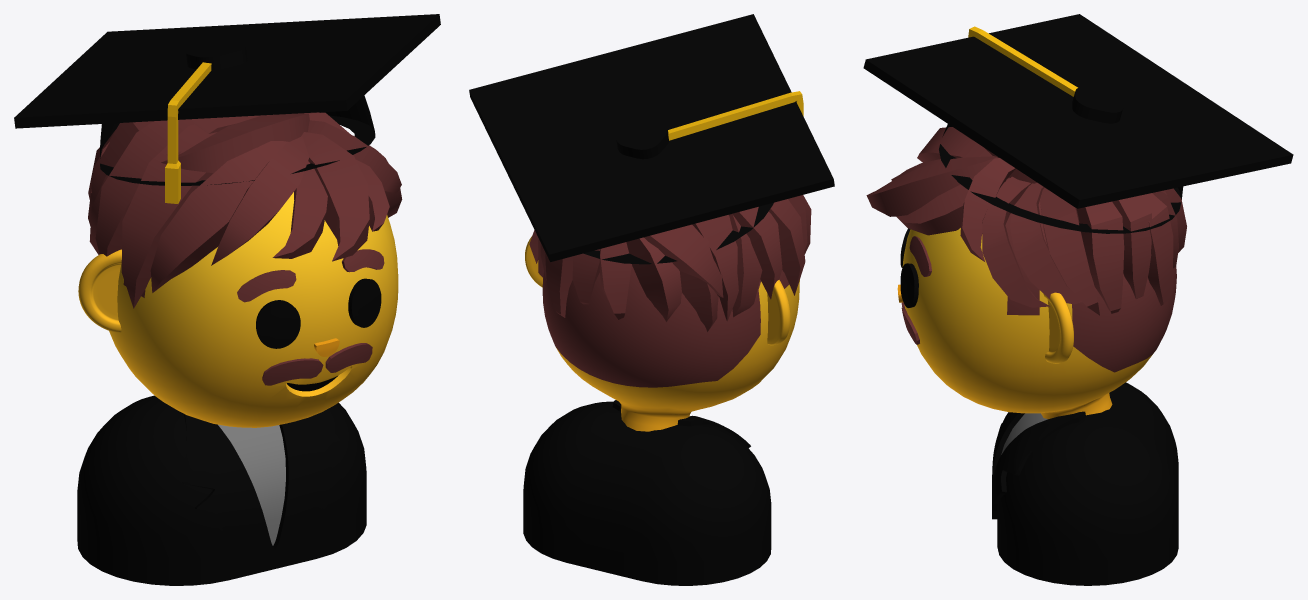
Rendered from man_student.glb.
3 views of the same model, side by side, from view 1: azimuth 30°, elevation 25°; view 2: azimuth 150°, elevation 25°; view 3: azimuth 270°, elevation 25° (orthographic). The views are drawn at different scales.
Parts seen in each view (by area): view 1: Cube.979, Roundcube.078, Circle.558, Sphere.038, Circle.557, Circle.554, Cylinder.071, Circle.559, Plane.029, Circle.556; view 2: Circle.558, Sphere.038, Roundcube.078, Cube.979, Cylinder.071, Plane.029, Circle.557; view 3: Circle.558, Cube.979, Sphere.038, Roundcube.078, Circle.557, Cylinder.071, Plane.029, Circle.554.
Boxes of the visible parts, bbox=[...] form: Cube.979: bbox=[88, 112, 402, 308]; Roundcube.078: bbox=[109, 192, 398, 427]; Circle.558: bbox=[14, 14, 440, 185]; Sphere.038: bbox=[77, 395, 366, 585]; Circle.557: bbox=[182, 414, 343, 557]; Circle.554: bbox=[256, 278, 381, 348]; Cylinder.071: bbox=[78, 249, 121, 332]; Circle.559: bbox=[262, 343, 372, 385]; Plane.029: bbox=[165, 62, 211, 203]; Circle.556: bbox=[237, 249, 384, 302]; Circle.558: bbox=[469, 14, 834, 264]; Sphere.038: bbox=[523, 401, 771, 585]; Roundcube.078: bbox=[542, 265, 799, 431]; Cube.979: bbox=[529, 195, 811, 331]; Cylinder.071: bbox=[525, 236, 790, 345]; Plane.029: bbox=[668, 91, 803, 140]; Circle.557: bbox=[612, 400, 750, 448]; Circle.558: bbox=[863, 14, 1293, 233]; Cube.979: bbox=[866, 127, 1186, 315]; Sphere.038: bbox=[997, 382, 1178, 585]; Roundcube.078: bbox=[902, 177, 1176, 419]; Circle.557: bbox=[992, 411, 1085, 519]; Cylinder.071: bbox=[1043, 292, 1073, 363]; Plane.029: bbox=[968, 26, 1077, 96]; Circle.554: bbox=[900, 228, 918, 307].
Bounding box in the file's own units: 2.07 × 2.43 × 2.02.
Materials: 1 (1 with a texture image).
